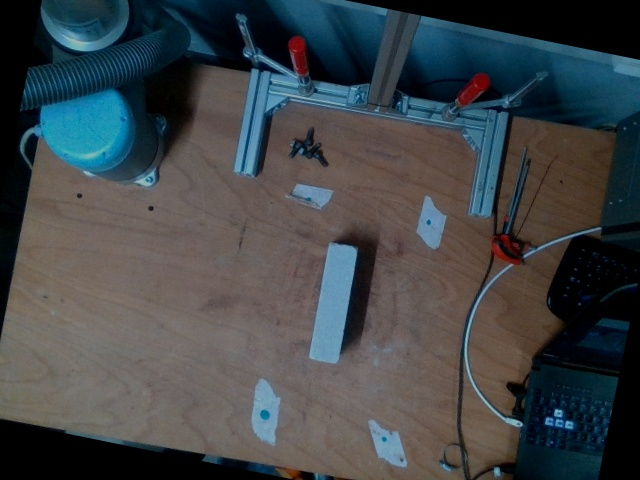brick-side: (309, 245, 358, 364)
